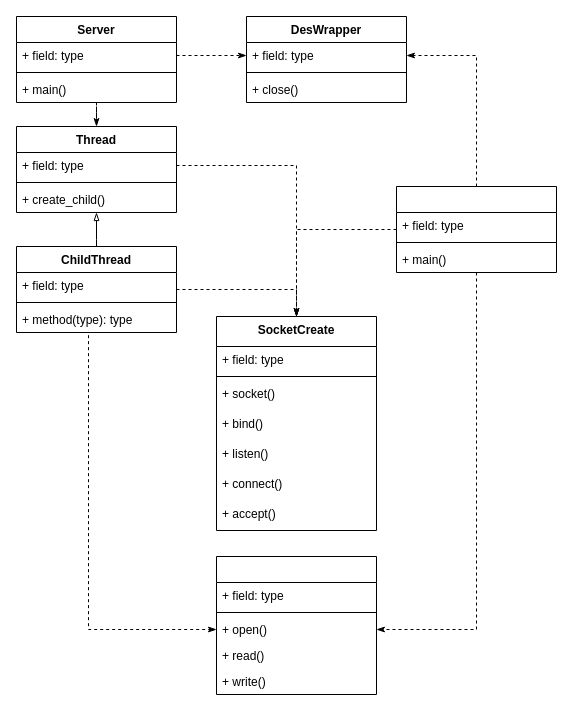
This 573x711 diagram has some shape labels left out. Here are the shapes that lost their labels. From the top down, the box of each, then its label:
(396, 186, 556, 272): Client
(216, 556, 376, 694): FileTrans
